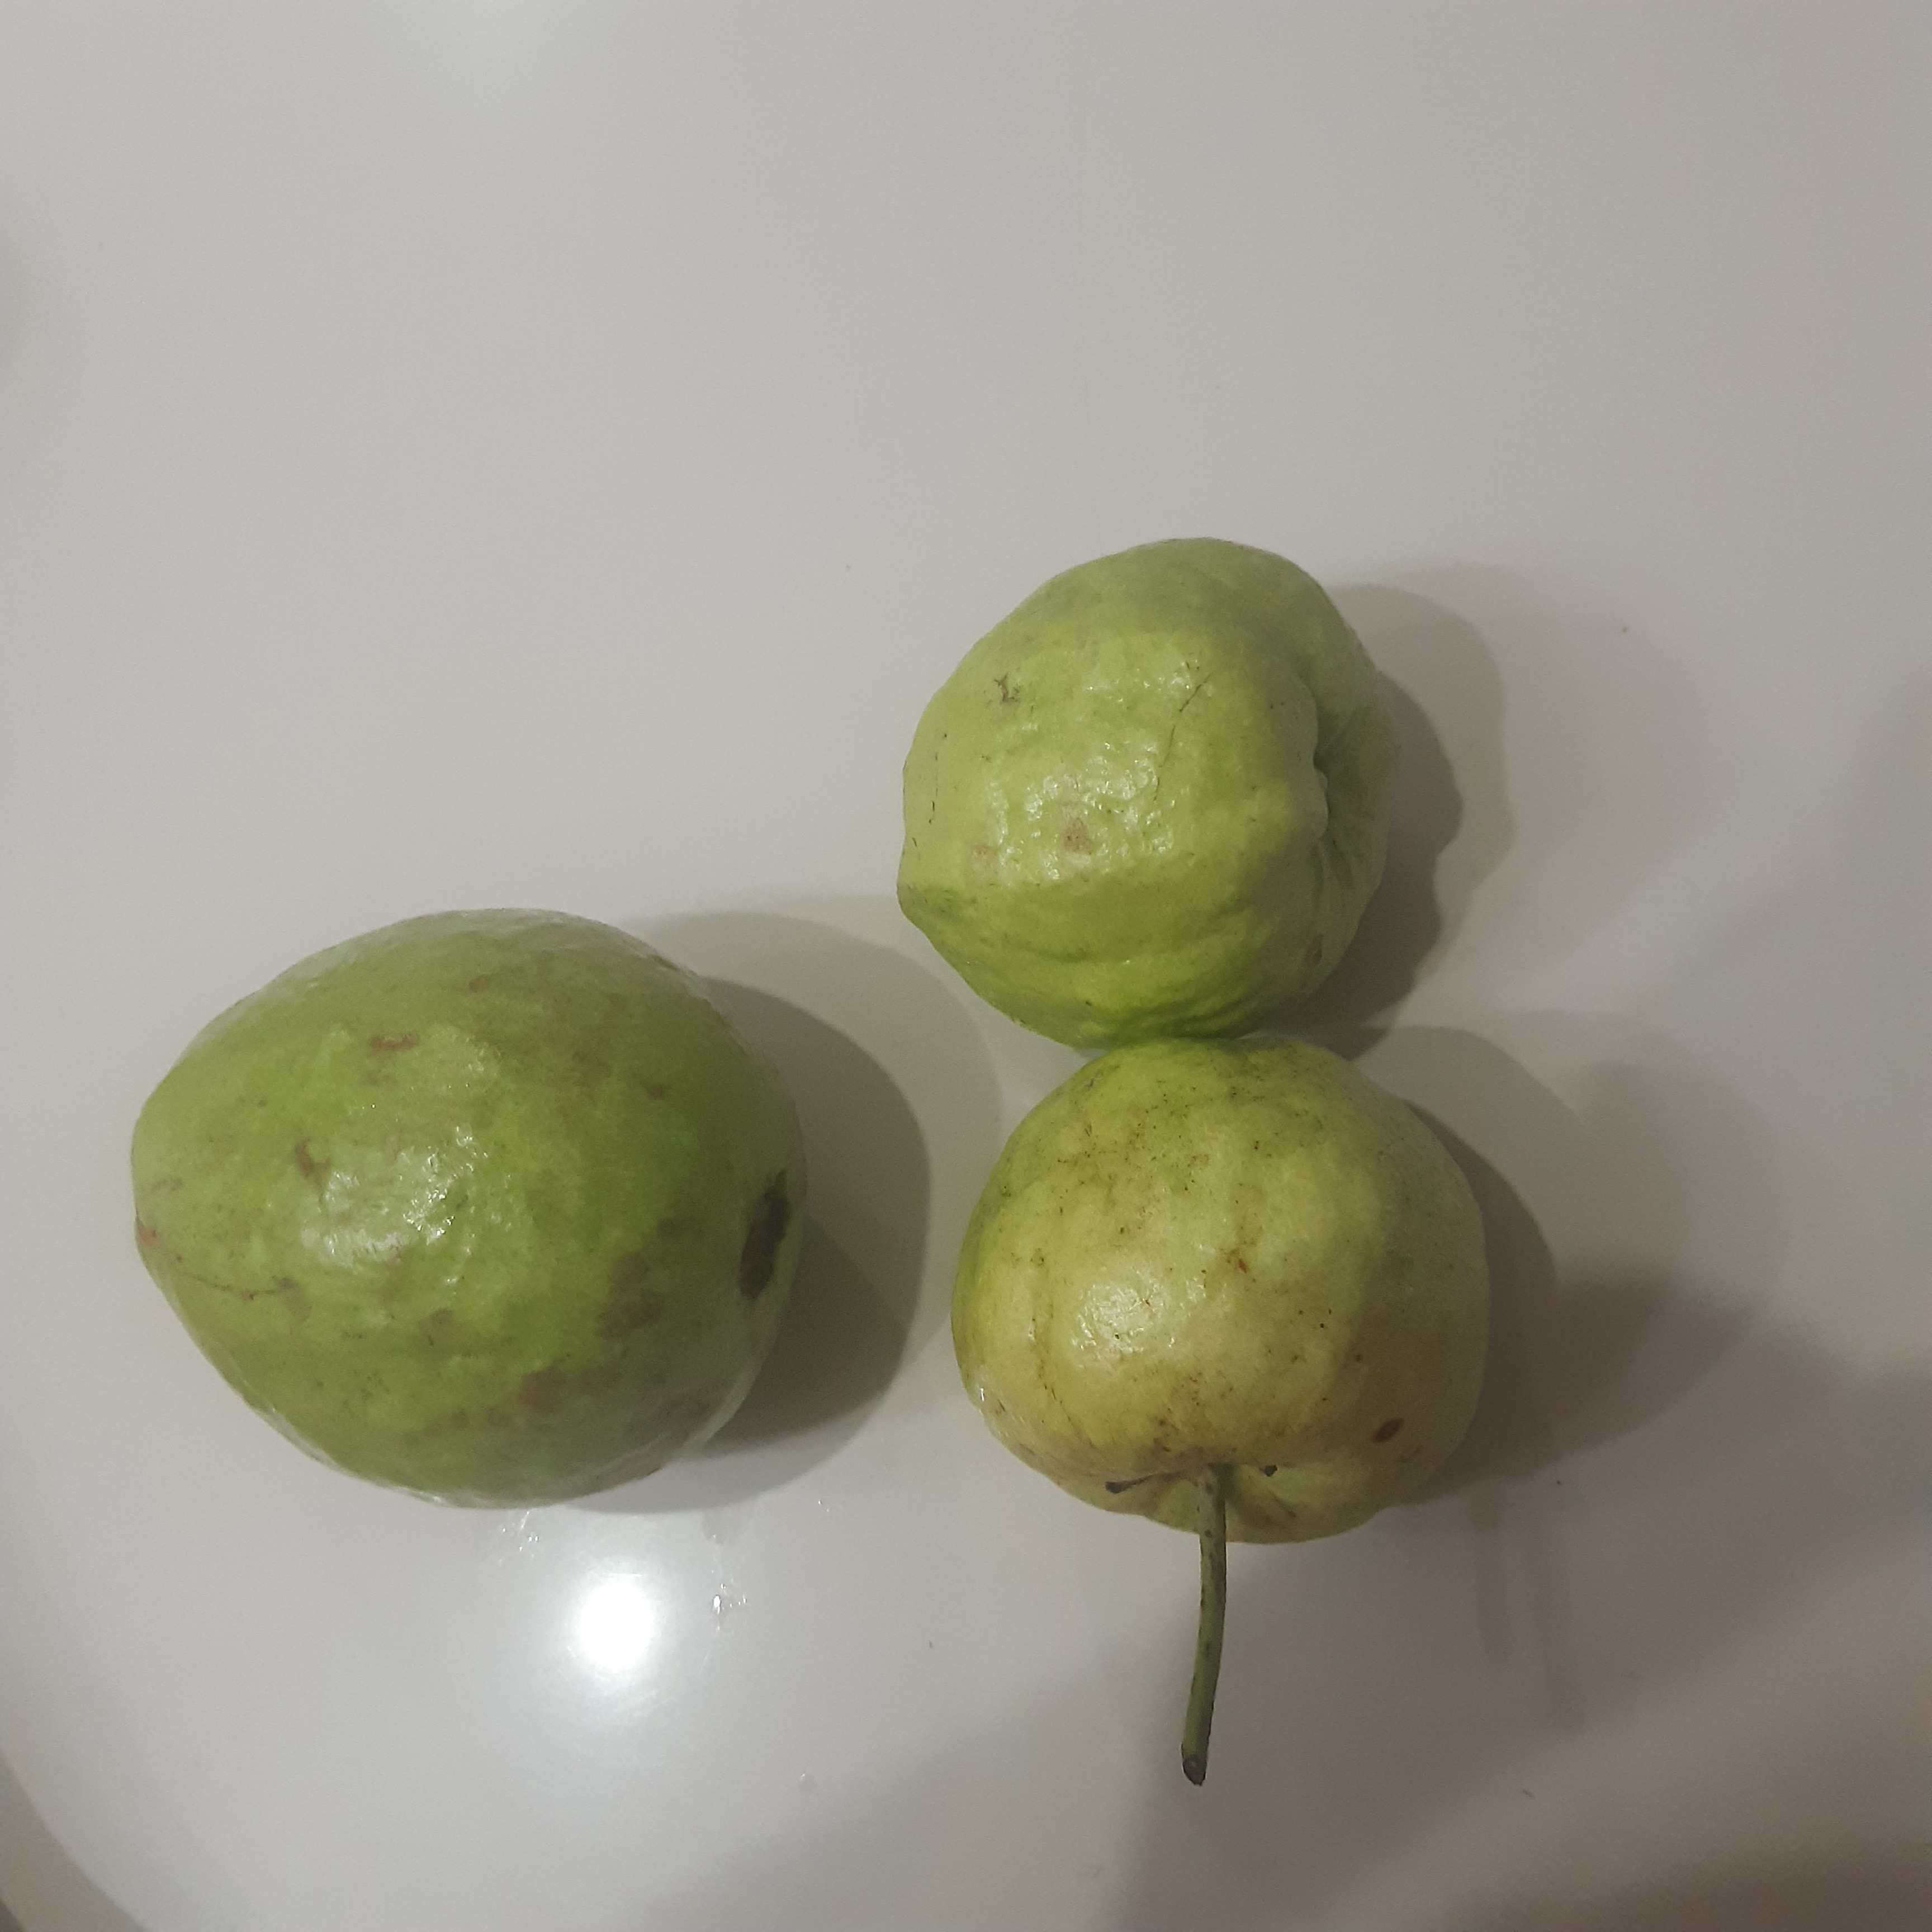Oi: (126, 906, 809, 1514), (950, 1037, 1493, 1548), (897, 540, 1398, 1049)
